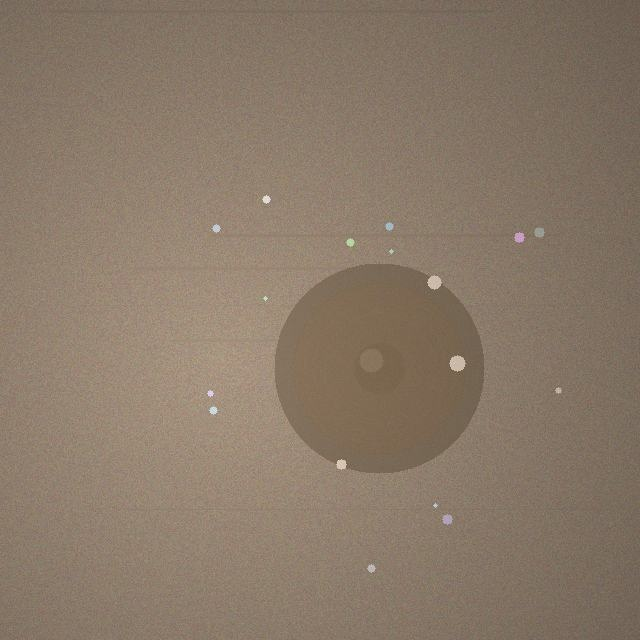overburn: (274, 263, 484, 473)
